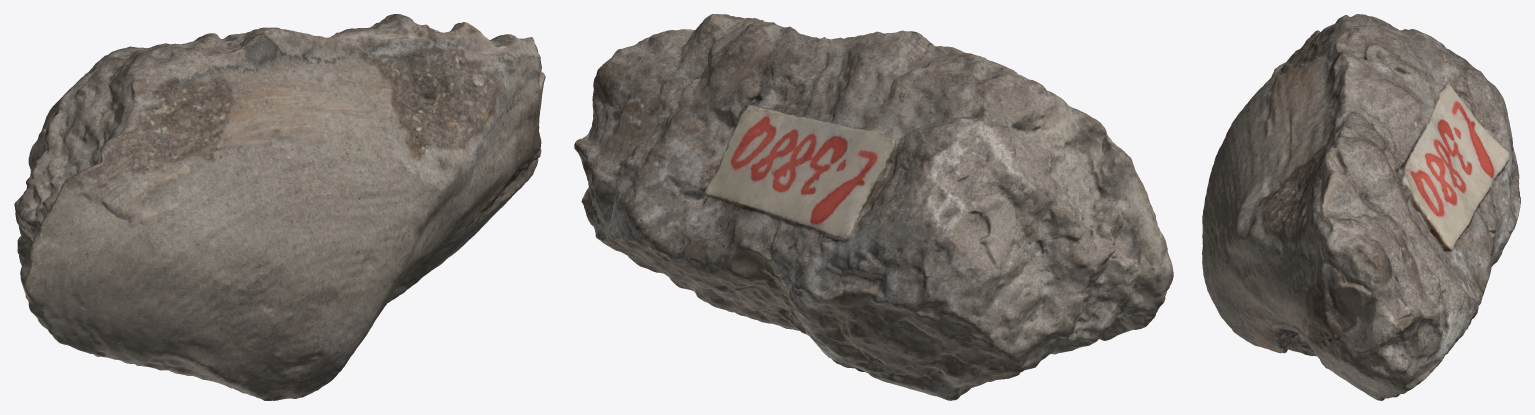
The model's file is EWS0016581.glb.
3 views of the same model, side by side, from view 1: azimuth 30°, elevation 25°; view 2: azimuth 150°, elevation 25°; view 3: azimuth 270°, elevation 25° (orthographic). The views are drawn at different scales.
Visible parts, largest first — view 1: input; view 2: input; view 3: input.
Boxes of the visible parts, x1=… form: input: x1=14, y1=14, x2=545, y2=400; input: x1=574, y1=14, x2=1173, y2=400; input: x1=1202, y1=14, x2=1520, y2=400.
Bounding box in the file's own units: 0.0302 × 0.018 × 0.017.
Materials: 1 (1 with a texture image).
